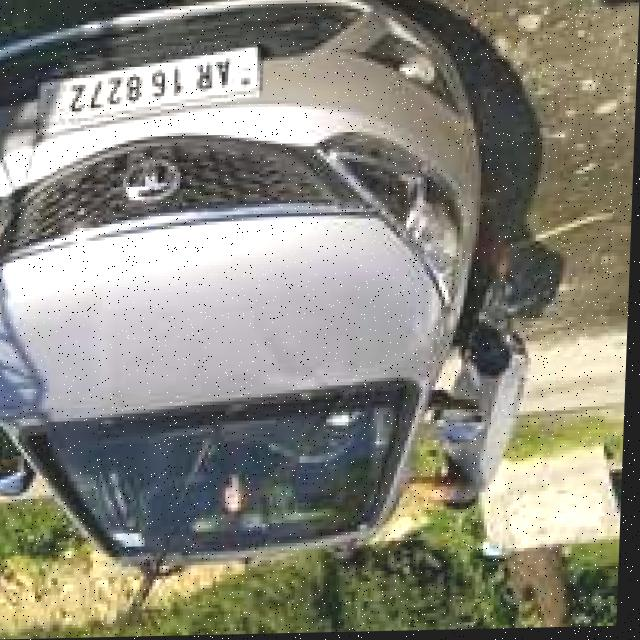plate: (35, 47, 261, 134)
